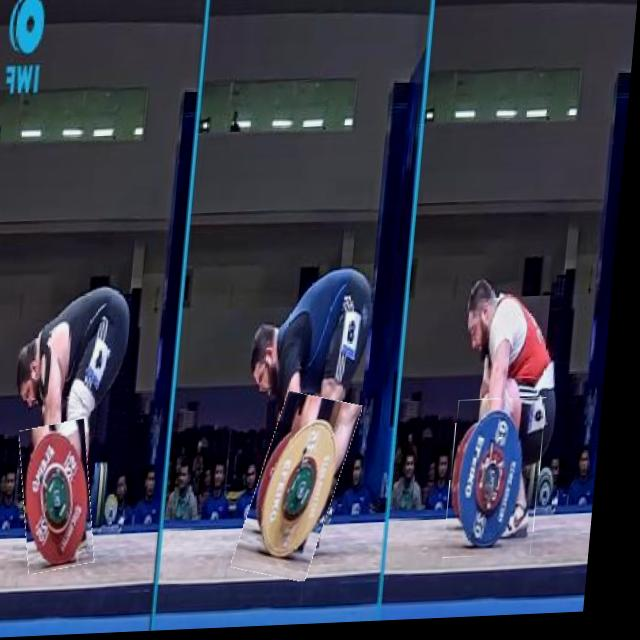barbell: (251, 396, 363, 585), (455, 403, 555, 564), (24, 423, 111, 575)
